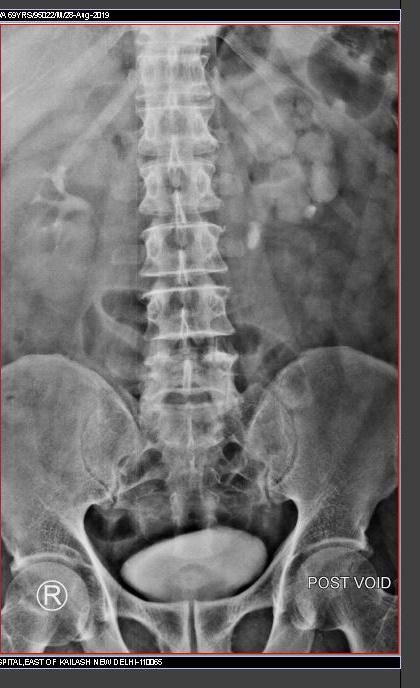bladder: (112, 516, 277, 603)
vertebrae: (132, 98, 222, 157)
